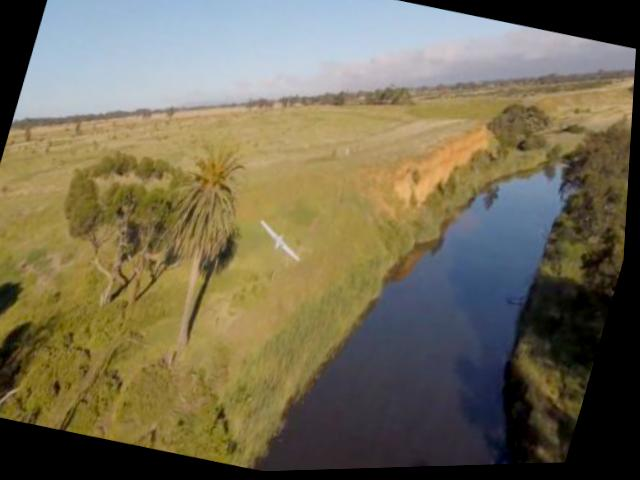uav: (251, 216, 314, 268)
